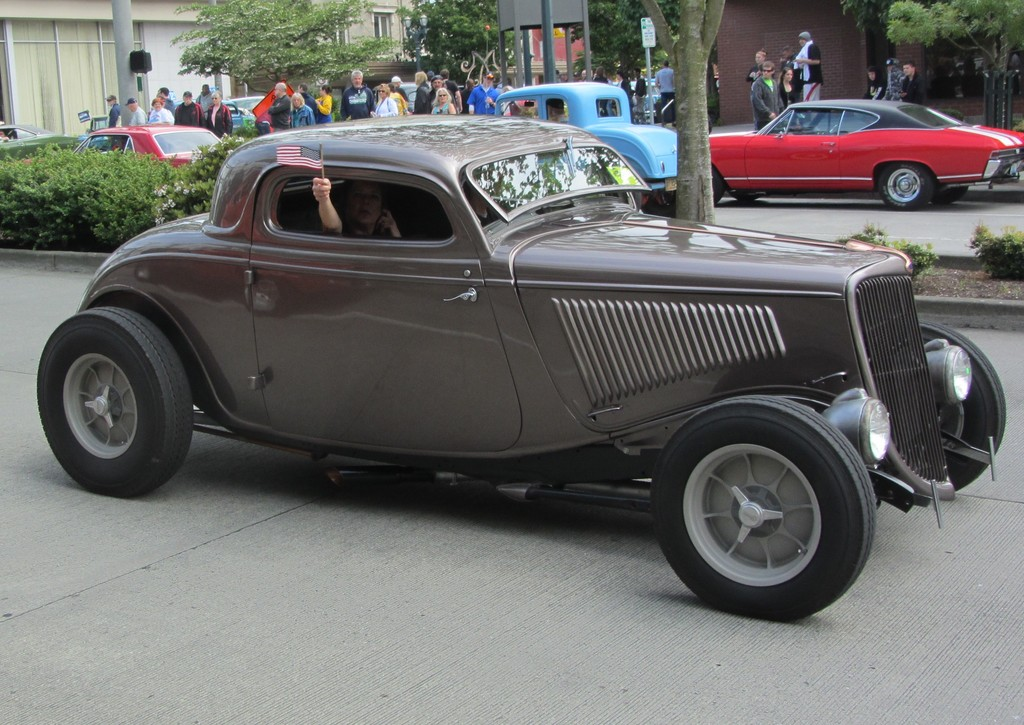Car: (80, 119, 992, 616), (698, 97, 1023, 211), (488, 78, 679, 215), (83, 119, 225, 173), (0, 118, 76, 152)
